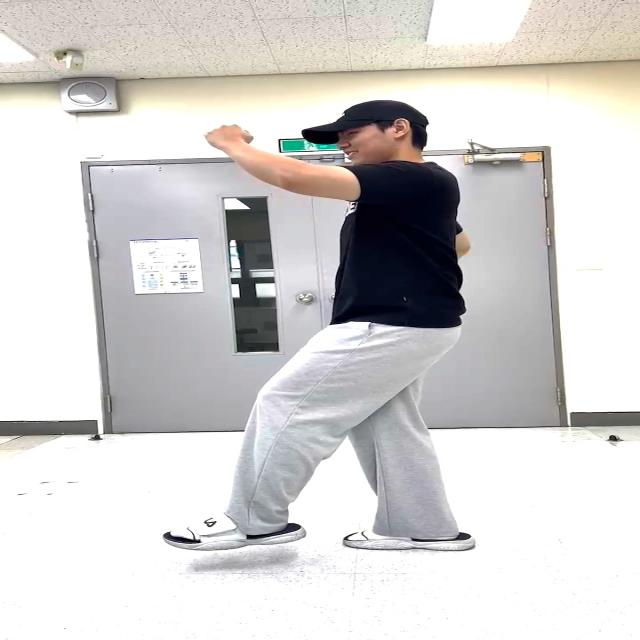leg: (167, 337, 371, 562)
